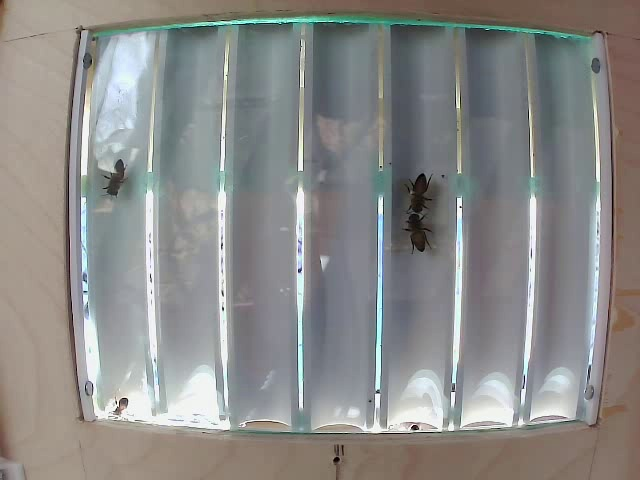bee: (98, 153, 142, 207), (397, 211, 434, 261), (401, 175, 435, 219)
